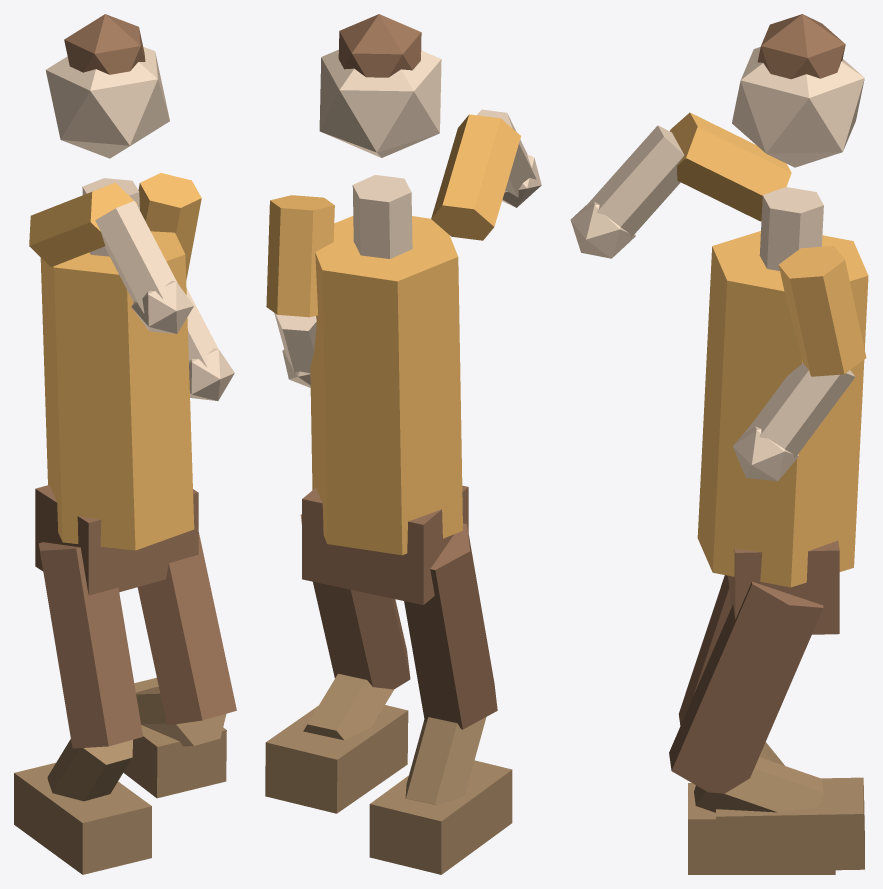
File: pose_attack_1_04.glb
The picture shows the model from 3 angles, left to right: view 1: azimuth 30°, elevation 25°; view 2: azimuth 150°, elevation 25°; view 3: azimuth 270°, elevation 25°; orthographic projection. The views are drawn at different scales.
Parts seen in each view (by area): view 1: pose; view 2: pose; view 3: pose.
Boxes of the visible parts, x1,y1,x2,y2 form: pose: (14, 14, 236, 874); pose: (265, 14, 541, 874); pose: (570, 14, 868, 874).
Size of the model in its own units: 0.4037 by 1.55 by 0.4844.
